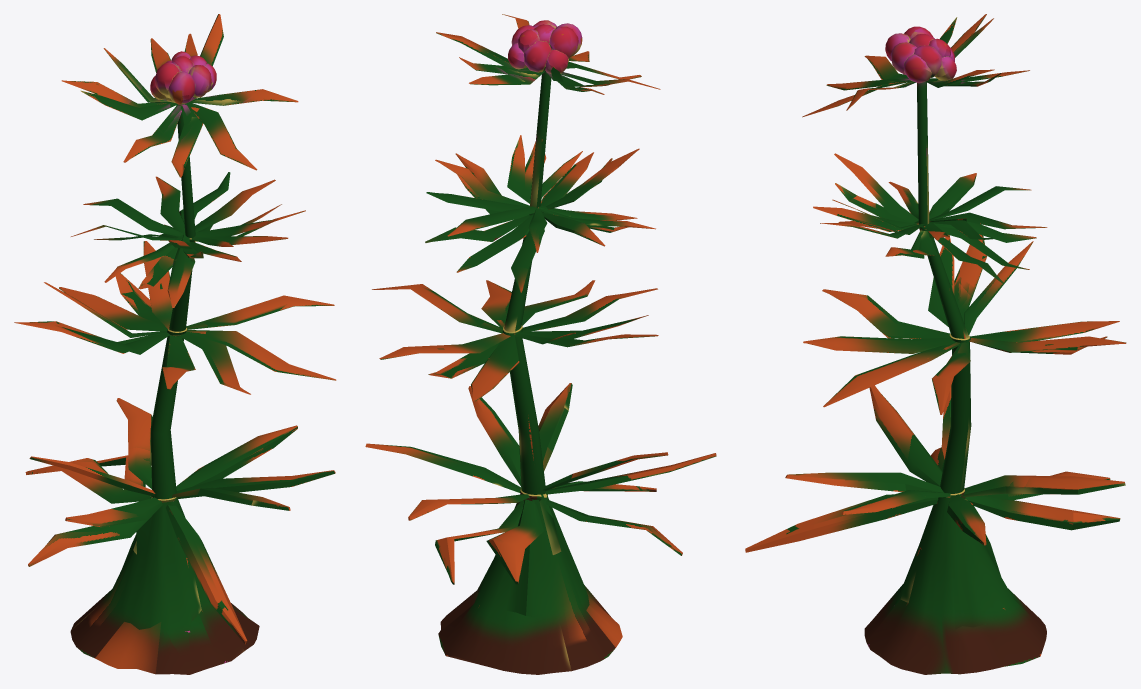
Rendered from Plant_tall_001.fbx.
3 renders of one model, left to right at view 1: azimuth 30°, elevation 25°; view 2: azimuth 150°, elevation 25°; view 3: azimuth 270°, elevation 25°, orthographic. The views are drawn at different scales.
Parts seen in each view (by area): view 1: Plant_tall_001; view 2: Plant_tall_001; view 3: Plant_tall_001.
Boxes of the visible parts, box(x1,y1,x2,y2) form: Plant_tall_001: box(14, 14, 336, 674); Plant_tall_001: box(365, 14, 716, 674); Plant_tall_001: box(745, 14, 1126, 674).
Bounding box in the file's own units: 1513 × 2796 × 1597.
